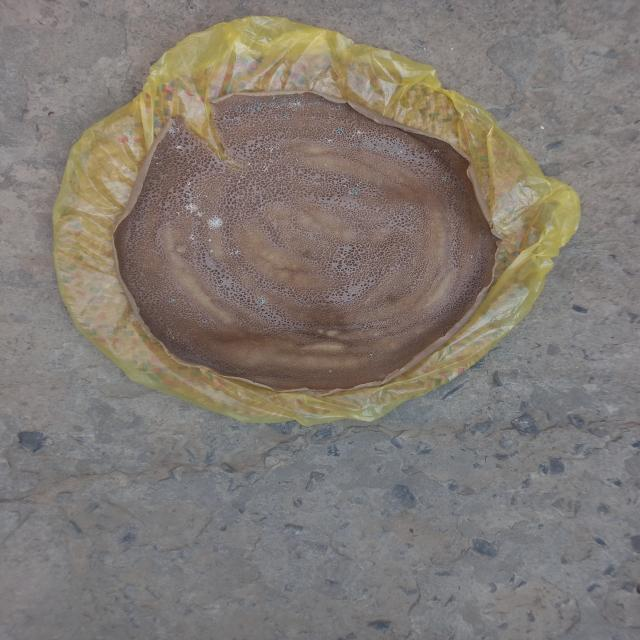injera_mold: (174, 182, 210, 202), (183, 204, 204, 218), (165, 120, 183, 136), (205, 216, 225, 230), (227, 246, 244, 258), (286, 102, 305, 112), (164, 326, 176, 341), (150, 154, 165, 165), (265, 145, 283, 154), (258, 163, 272, 174), (428, 148, 443, 155), (252, 103, 264, 110), (355, 128, 364, 136), (188, 233, 195, 243), (350, 143, 360, 150), (258, 297, 266, 305), (167, 297, 176, 304), (336, 127, 344, 134), (355, 181, 364, 187), (244, 108, 253, 114), (375, 181, 382, 188), (226, 119, 234, 125), (174, 145, 183, 150), (349, 190, 358, 195), (325, 138, 334, 143), (314, 102, 322, 107), (441, 177, 447, 183), (268, 103, 277, 107), (202, 320, 209, 325), (368, 352, 374, 357), (329, 368, 335, 373), (206, 238, 212, 242), (175, 211, 180, 215), (282, 116, 288, 119), (469, 255, 473, 259), (282, 98, 286, 102), (293, 96, 297, 100), (208, 250, 214, 252), (168, 224, 172, 226)
